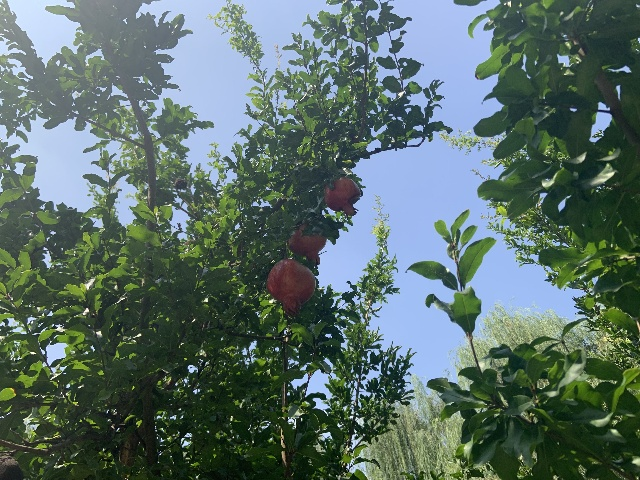ripe: (266, 259, 315, 316), (287, 223, 326, 265), (324, 176, 360, 216)
